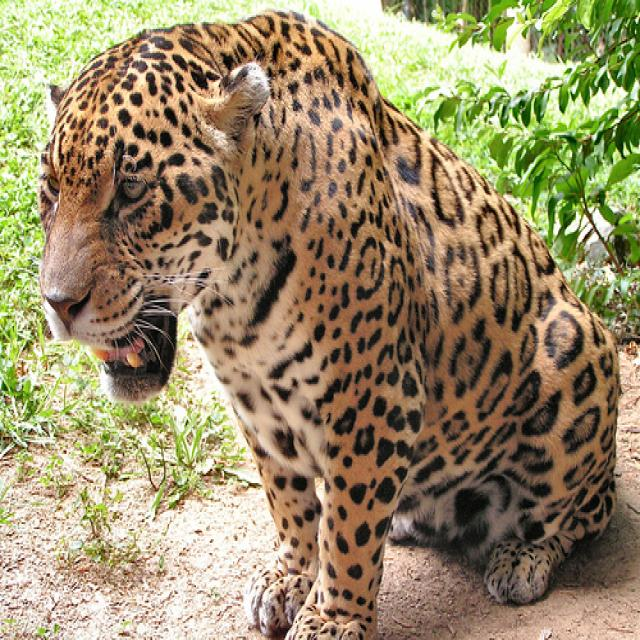Leopard: (36, 6, 621, 636)
